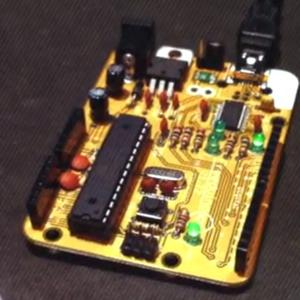duino: (26, 0, 283, 288)
